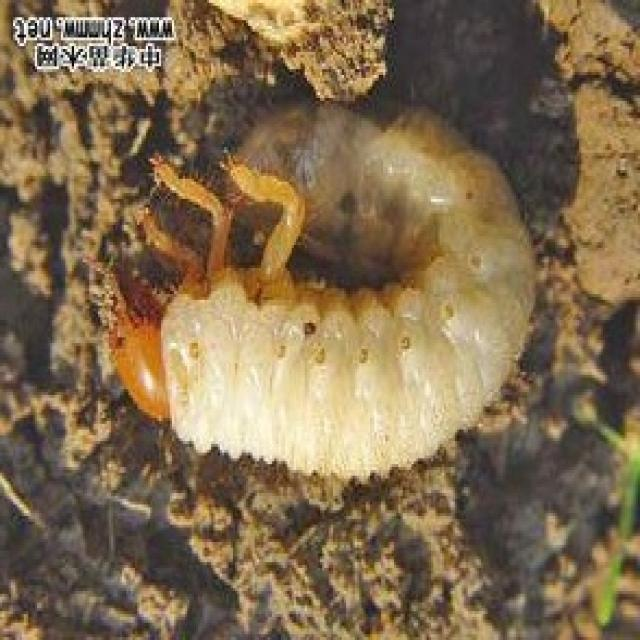grub: (107, 89, 536, 472)
